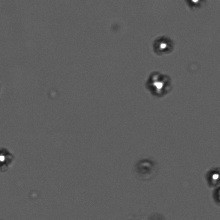Dead Cell: (134, 157, 158, 177)
Living Cell: (144, 72, 172, 97), (151, 36, 175, 54), (1, 147, 16, 170), (185, 1, 205, 11)
